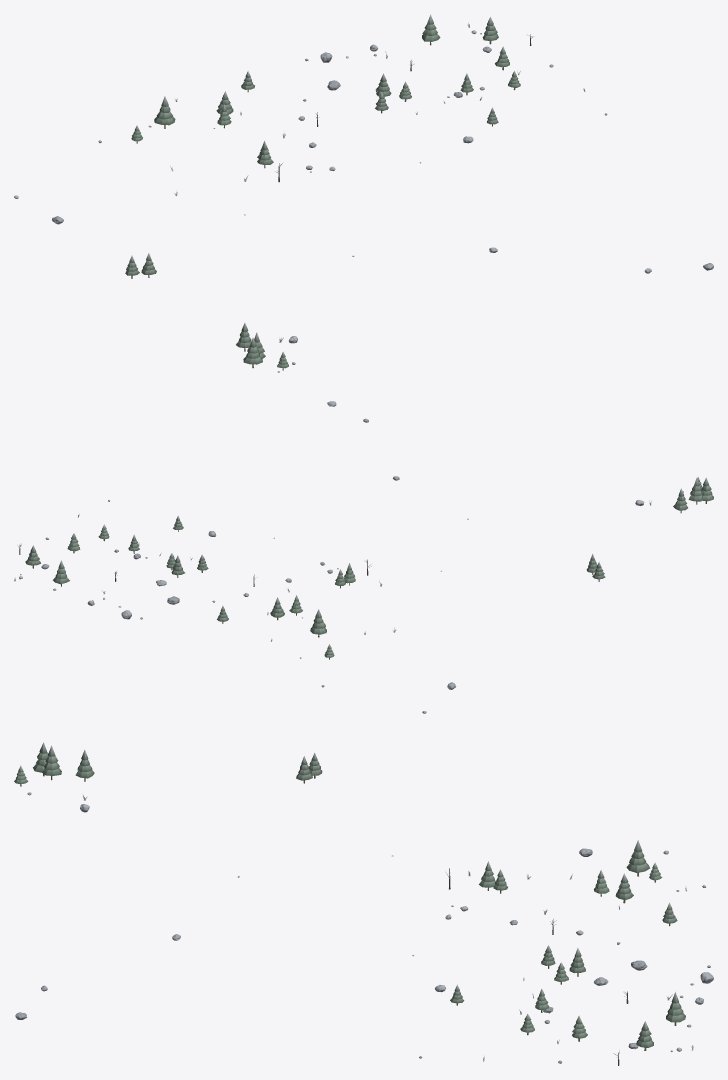
Rendered from frost_land_scatter_c13_10.glb.
3 renders of one model, top to bottom at view 1: azimuth 30°, elevation 25°; view 2: azimuth 150°, elevation 25°; view 3: azimuth 270°, elevation 25°, orthographic. The views are drawn at different scales.
Parts seen in each view (by area): view 1: frost_land_scatter_c13_10; view 2: frost_land_scatter_c13_10; view 3: frost_land_scatter_c13_10.
Part boxes in pixels (bbox=[...]): frost_land_scatter_c13_10: bbox=[14, 14, 713, 372]; frost_land_scatter_c13_10: bbox=[14, 401, 713, 713]; frost_land_scatter_c13_10: bbox=[14, 742, 713, 1065].
Size of the model in its own units: 255 by 35.45 by 255.
